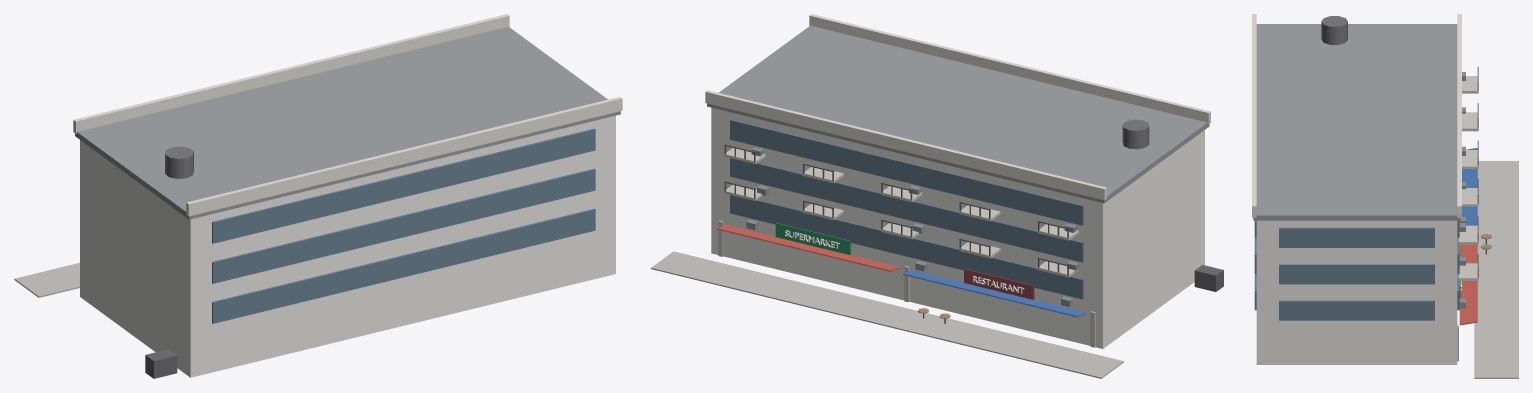
File: wuse2_block_1.glb
3 renders of one model, left to right at view 1: azimuth 30°, elevation 25°; view 2: azimuth 150°, elevation 25°; view 3: azimuth 270°, elevation 25°, orthographic. The views are drawn at different scales.
Visible parts, largest first — view 1: BLD_wuse2_block_1; view 2: BLD_wuse2_block_1; view 3: BLD_wuse2_block_1.
Boxes of the visible parts, left/top/right/bottom form: BLD_wuse2_block_1: left=14, top=14, right=622, bottom=378; BLD_wuse2_block_1: left=651, top=14, right=1223, bottom=378; BLD_wuse2_block_1: left=1252, top=14, right=1518, bottom=378.
Bounding box in the file's own units: 46 × 16.7 × 23.9.
